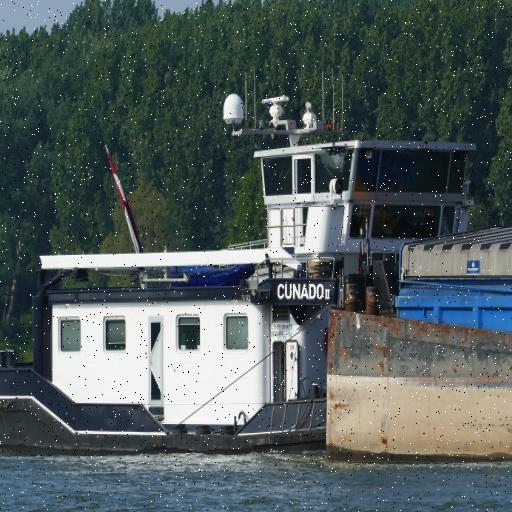tugboat: (1, 92, 472, 471)
